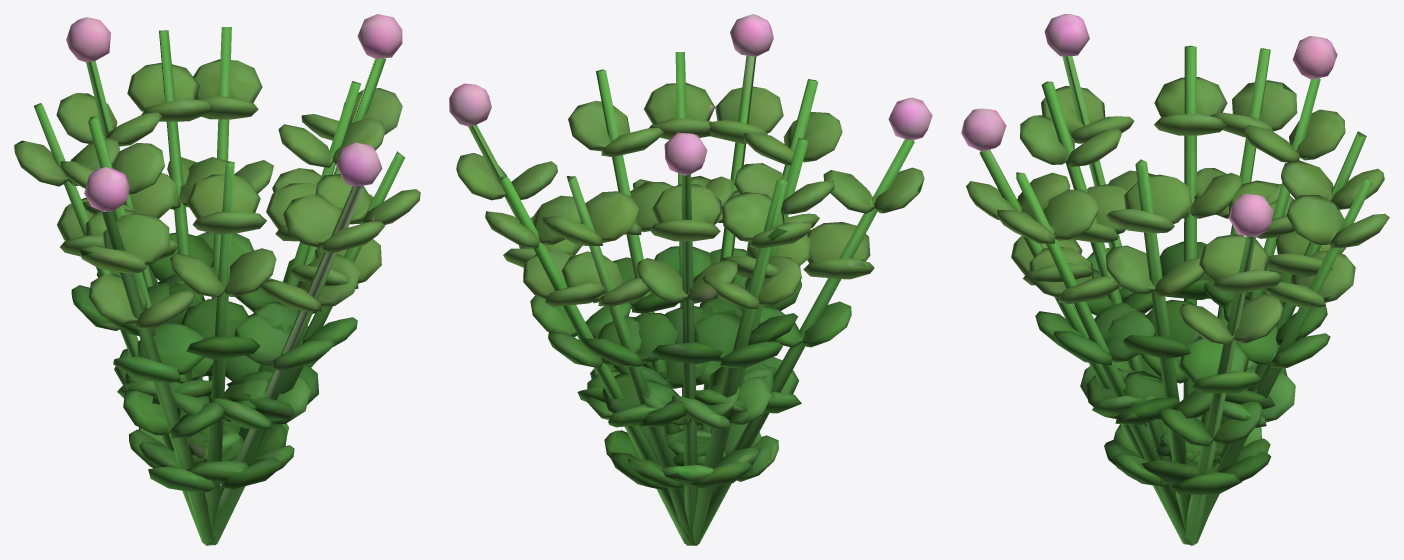
File: crop_oregano.glb
3 views of the same model, side by side, from view 1: azimuth 30°, elevation 25°; view 2: azimuth 150°, elevation 25°; view 3: azimuth 270°, elevation 25° (orthographic). The views are drawn at different scales.
Visible parts, largest first — view 1: crop_oregano, fruit; view 2: crop_oregano, fruit; view 3: crop_oregano, fruit.
Part boxes in pixels (left/top/right/bottom): crop_oregano: left=34, top=14, right=405, bottom=545; fruit: left=14, top=59, right=420, bottom=328; crop_oregano: left=449, top=14, right=932, bottom=545; fruit: left=456, top=83, right=924, bottom=308; crop_oregano: left=961, top=14, right=1372, bottom=545; fruit: left=966, top=77, right=1389, bottom=345.
Size of the model in its own units: 0.1651 by 0.1902 by 0.1544.
1 material, 1 textured.
